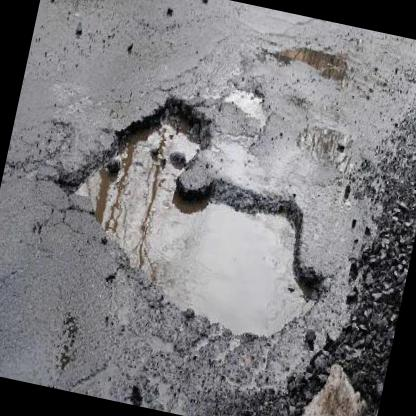pothole: (32, 70, 356, 352), (264, 34, 350, 86), (219, 78, 274, 130)
